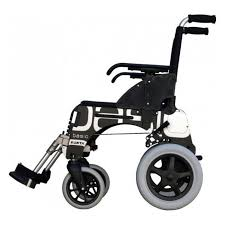wheelchair: (14, 8, 220, 205)
